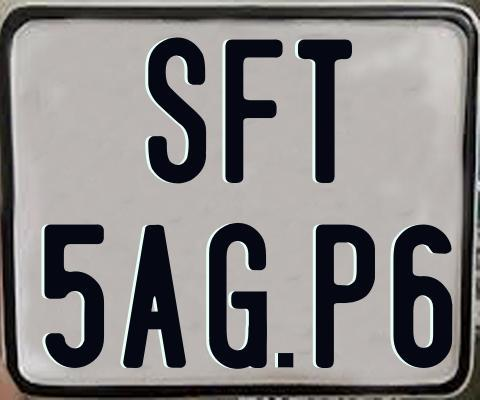5: (42, 224, 103, 373)
6: (391, 224, 453, 372)
A: (120, 224, 188, 367)
F: (222, 38, 281, 187)
G: (207, 223, 270, 370)
P: (316, 224, 377, 370)
S: (145, 36, 203, 186)
T: (296, 36, 355, 182)
